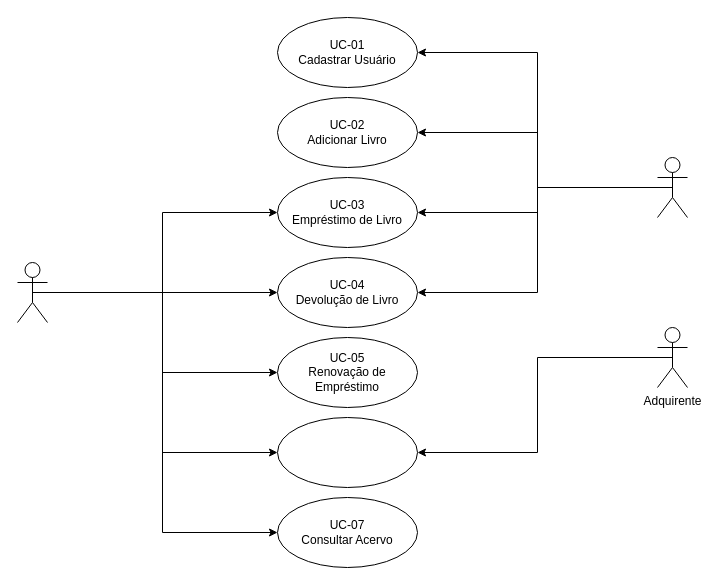
The diagram is 722 pixels wide and 585 high, and some of its shapes have lost their labels. Here are the shapes that lost their labels. From the top down, the centre of each, then its label:
(672,187): Bibliotecário
(32,292): Aluno
(347,452): UC-06 Pagar Multa
